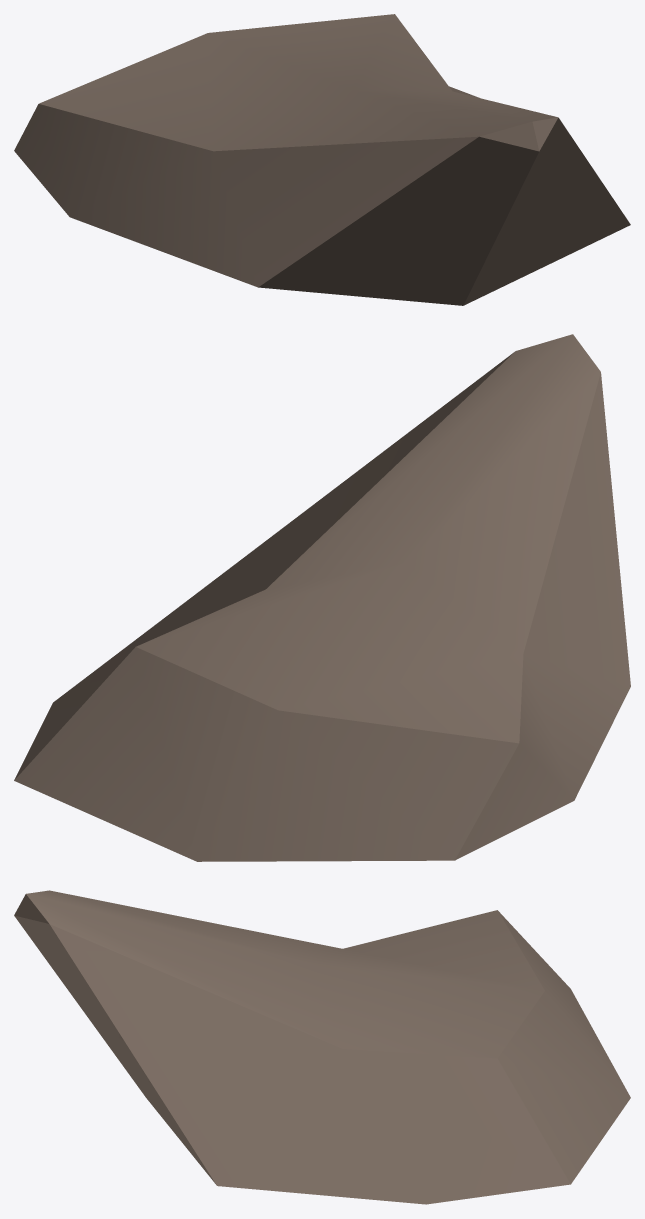
File: rock_cliff_decoration.fbx
3 views of the same model, one above another, from view 1: azimuth 30°, elevation 25°; view 2: azimuth 150°, elevation 25°; view 3: azimuth 270°, elevation 25° (orthographic). The views are drawn at different scales.
Parts seen in each view (by area): view 1: rock_cliff_decoration; view 2: rock_cliff_decoration; view 3: rock_cliff_decoration.
Boxes of the visible parts, x1,y1,x2,y2 form: rock_cliff_decoration: [14, 14, 630, 305]; rock_cliff_decoration: [14, 334, 630, 861]; rock_cliff_decoration: [14, 890, 630, 1204].
Bounding box in the file's own units: 802 × 372 × 1019.
